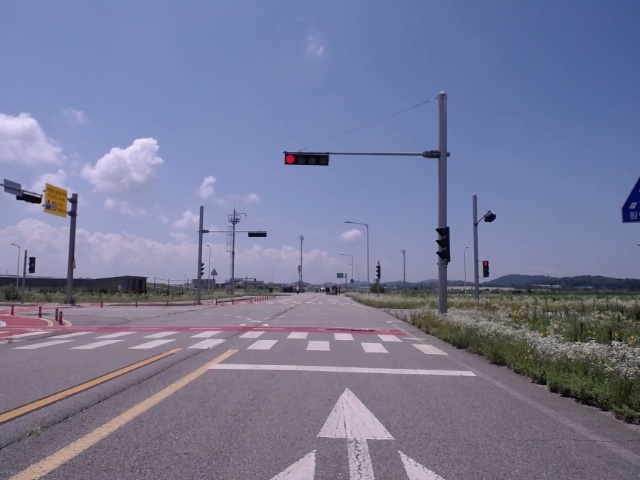red_4: (284, 154, 329, 166)
